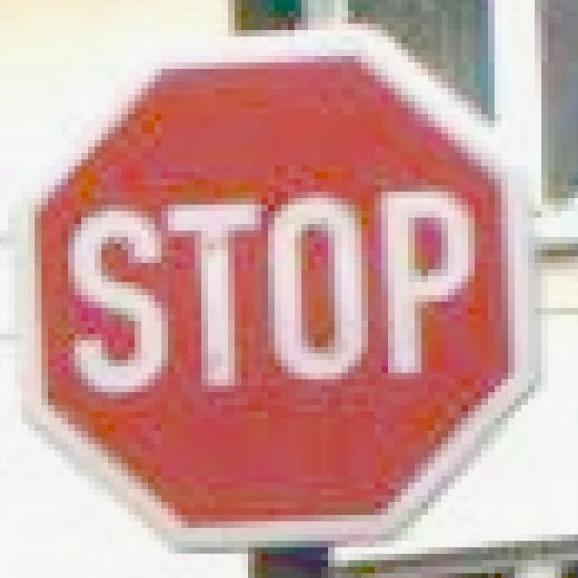stop_sign: (8, 17, 535, 547)
